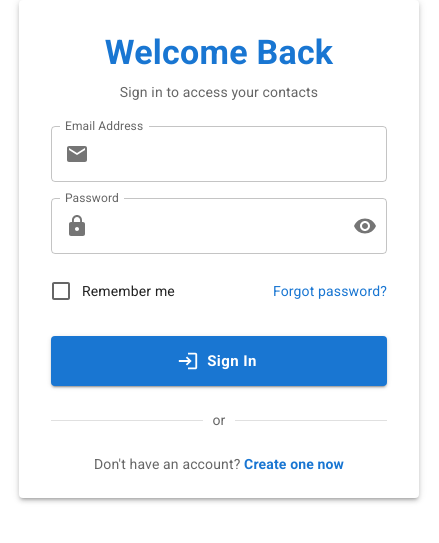
Scenario: LoginForm › Accessibility › should announce validation errors to screen readers
Click the field labelled "Email Address".
click(242, 154)  # box [97,126,387,182]
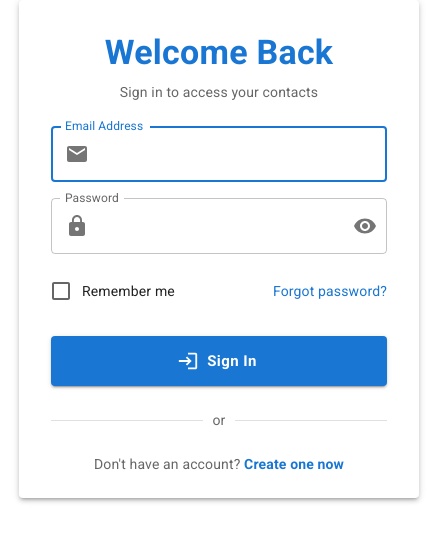
Press Tab
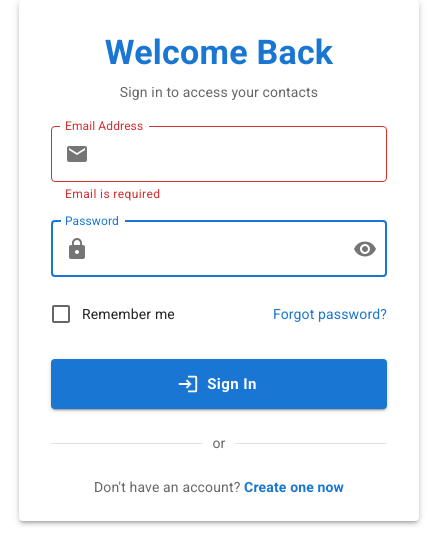
Check: the text "Email is required" is shown, box [65,187,160,201]
